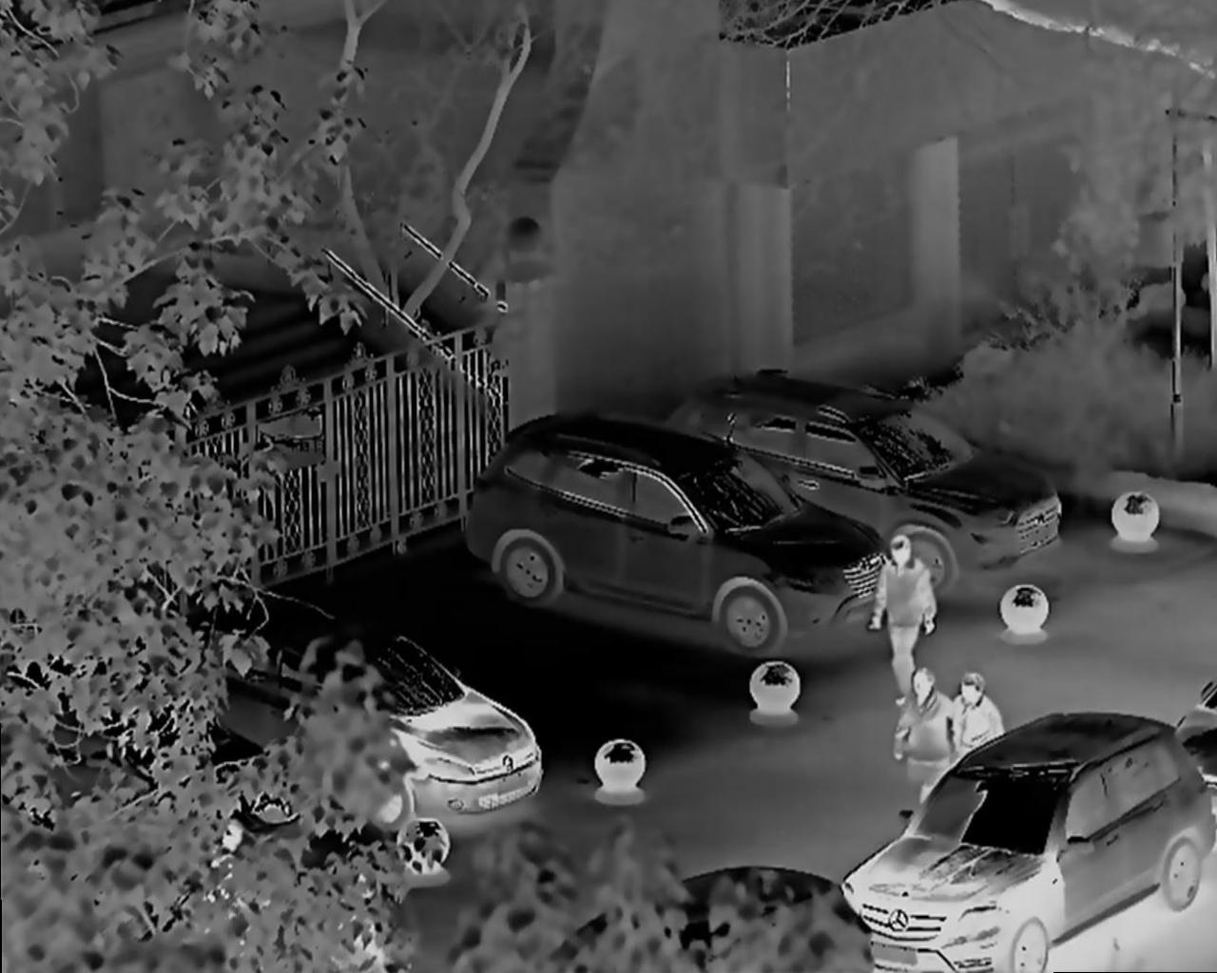person: (872, 531, 952, 700), (950, 662, 1025, 797), (892, 663, 956, 792)
